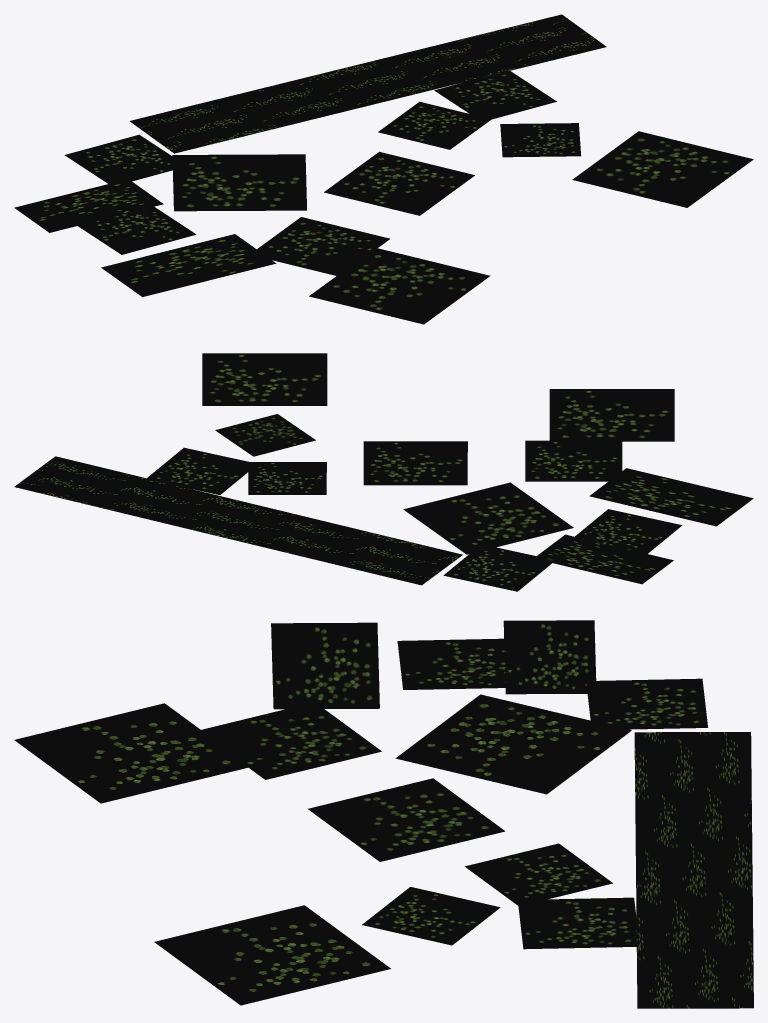
The model's file is plantas.obj.
The picture shows the model from 3 angles, top to bottom: view 1: azimuth 30°, elevation 25°; view 2: azimuth 150°, elevation 25°; view 3: azimuth 270°, elevation 25°; orthographic projection. The views are drawn at different scales.
Visible parts, largest first — view 1: Clover-02.011; view 2: Clover-02.011; view 3: Clover-02.011.
Part boxes in pixels (left/top/right/bottom): Clover-02.011: left=14, top=14, right=753, bottom=324; Clover-02.011: left=14, top=353, right=753, bottom=591; Clover-02.011: left=14, top=620, right=753, bottom=1008.
Bounding box in the file's own units: 1208 × 0 × 972.
13 materials, 13 textured.
